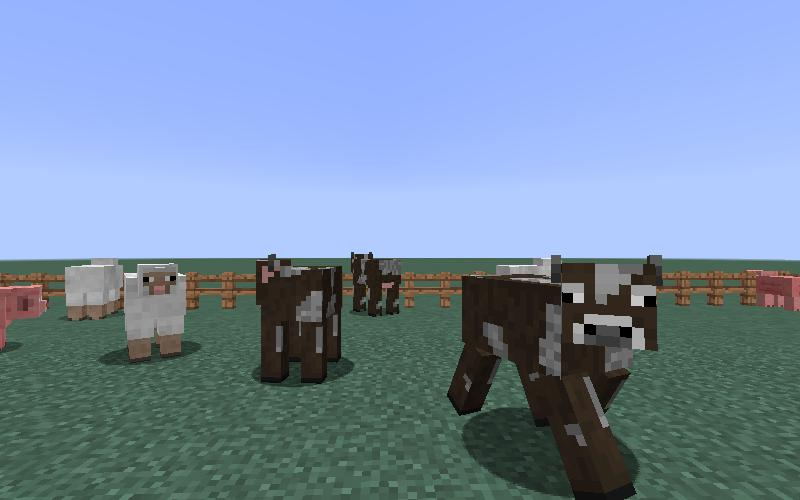cow: (439, 247, 672, 500), (247, 253, 349, 389), (347, 247, 405, 325)
pig: (2, 285, 49, 351), (746, 264, 800, 309)
sheep: (123, 256, 193, 367), (60, 253, 126, 322)
